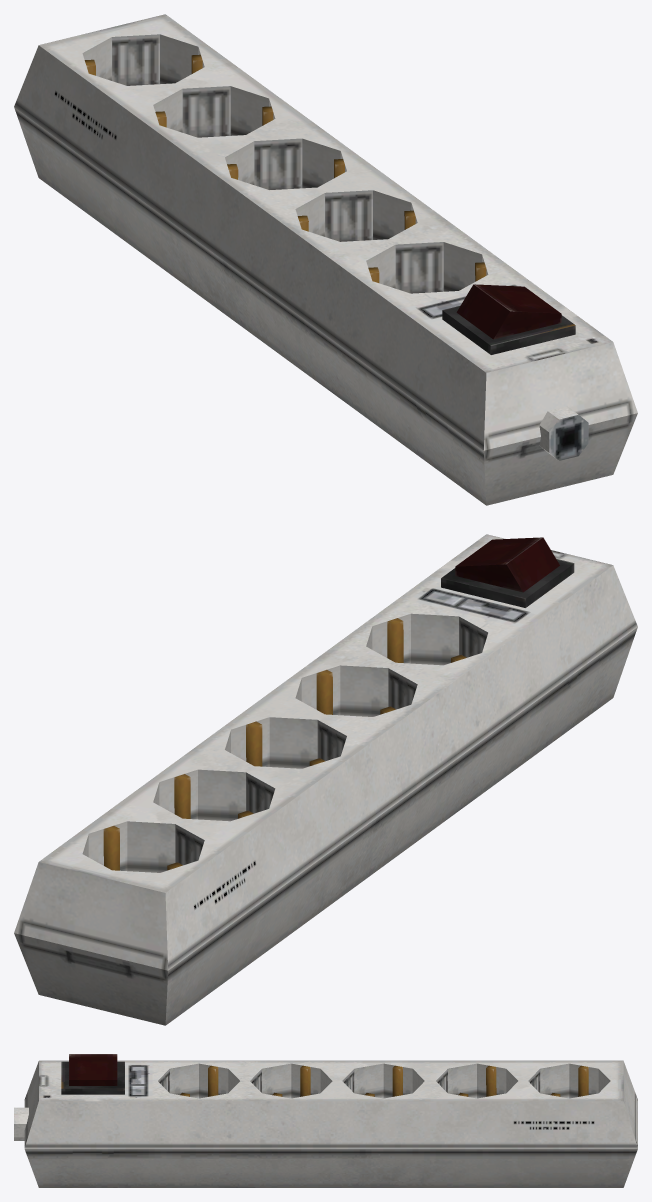
The model's file is cable_accessory_power_strip.dae.
The picture shows the model from 3 angles, top to bottom: view 1: azimuth 30°, elevation 25°; view 2: azimuth 150°, elevation 25°; view 3: azimuth 270°, elevation 25°; orthographic projection. The views are drawn at different scales.
Parts seen in each view (by area): view 1: Mesh__2_; view 2: Mesh__2_; view 3: Mesh__2_.
Part boxes in pixels (x1,y1,x2,y2): Mesh__2_: (14,14,637,505); Mesh__2_: (14,534,637,1025); Mesh__2_: (14,1054,637,1187).
Bounding box in the file's own units: 0.1093 × 0.1125 × 0.5869.
